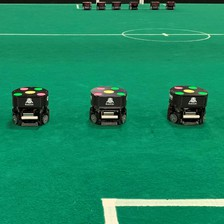goal: (93, 1, 145, 5)
robot: (165, 79, 209, 129), (9, 82, 52, 129), (87, 84, 130, 128), (164, 1, 177, 11), (127, 1, 138, 11), (148, 1, 159, 11), (80, 1, 92, 10), (110, 1, 120, 11), (95, 1, 106, 10)
